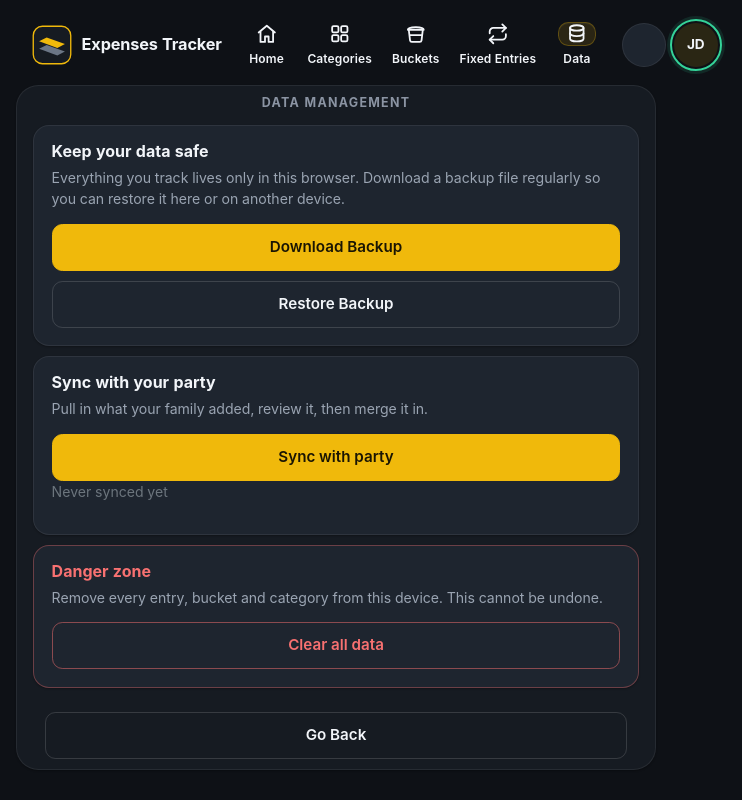
Scenario: no-wizard sync paths › identical local and remote states: 'You're up to date.' with no upload (AC-3.3)
Click the button "Sync with party". click: (336, 457)
box: [52,434,620,481]
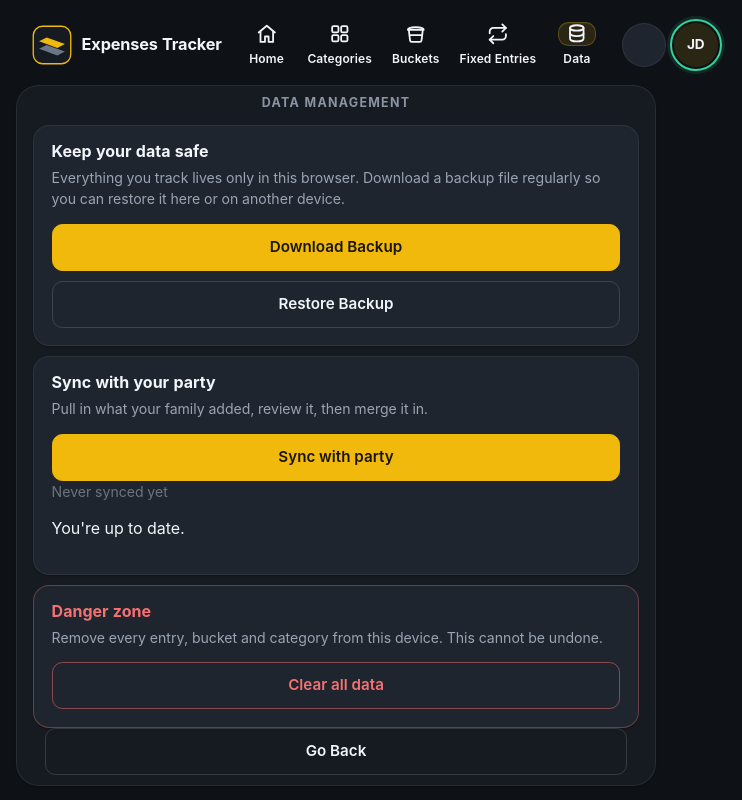
Now the text "You're up to date." is shown, box [52,518,184,538]
